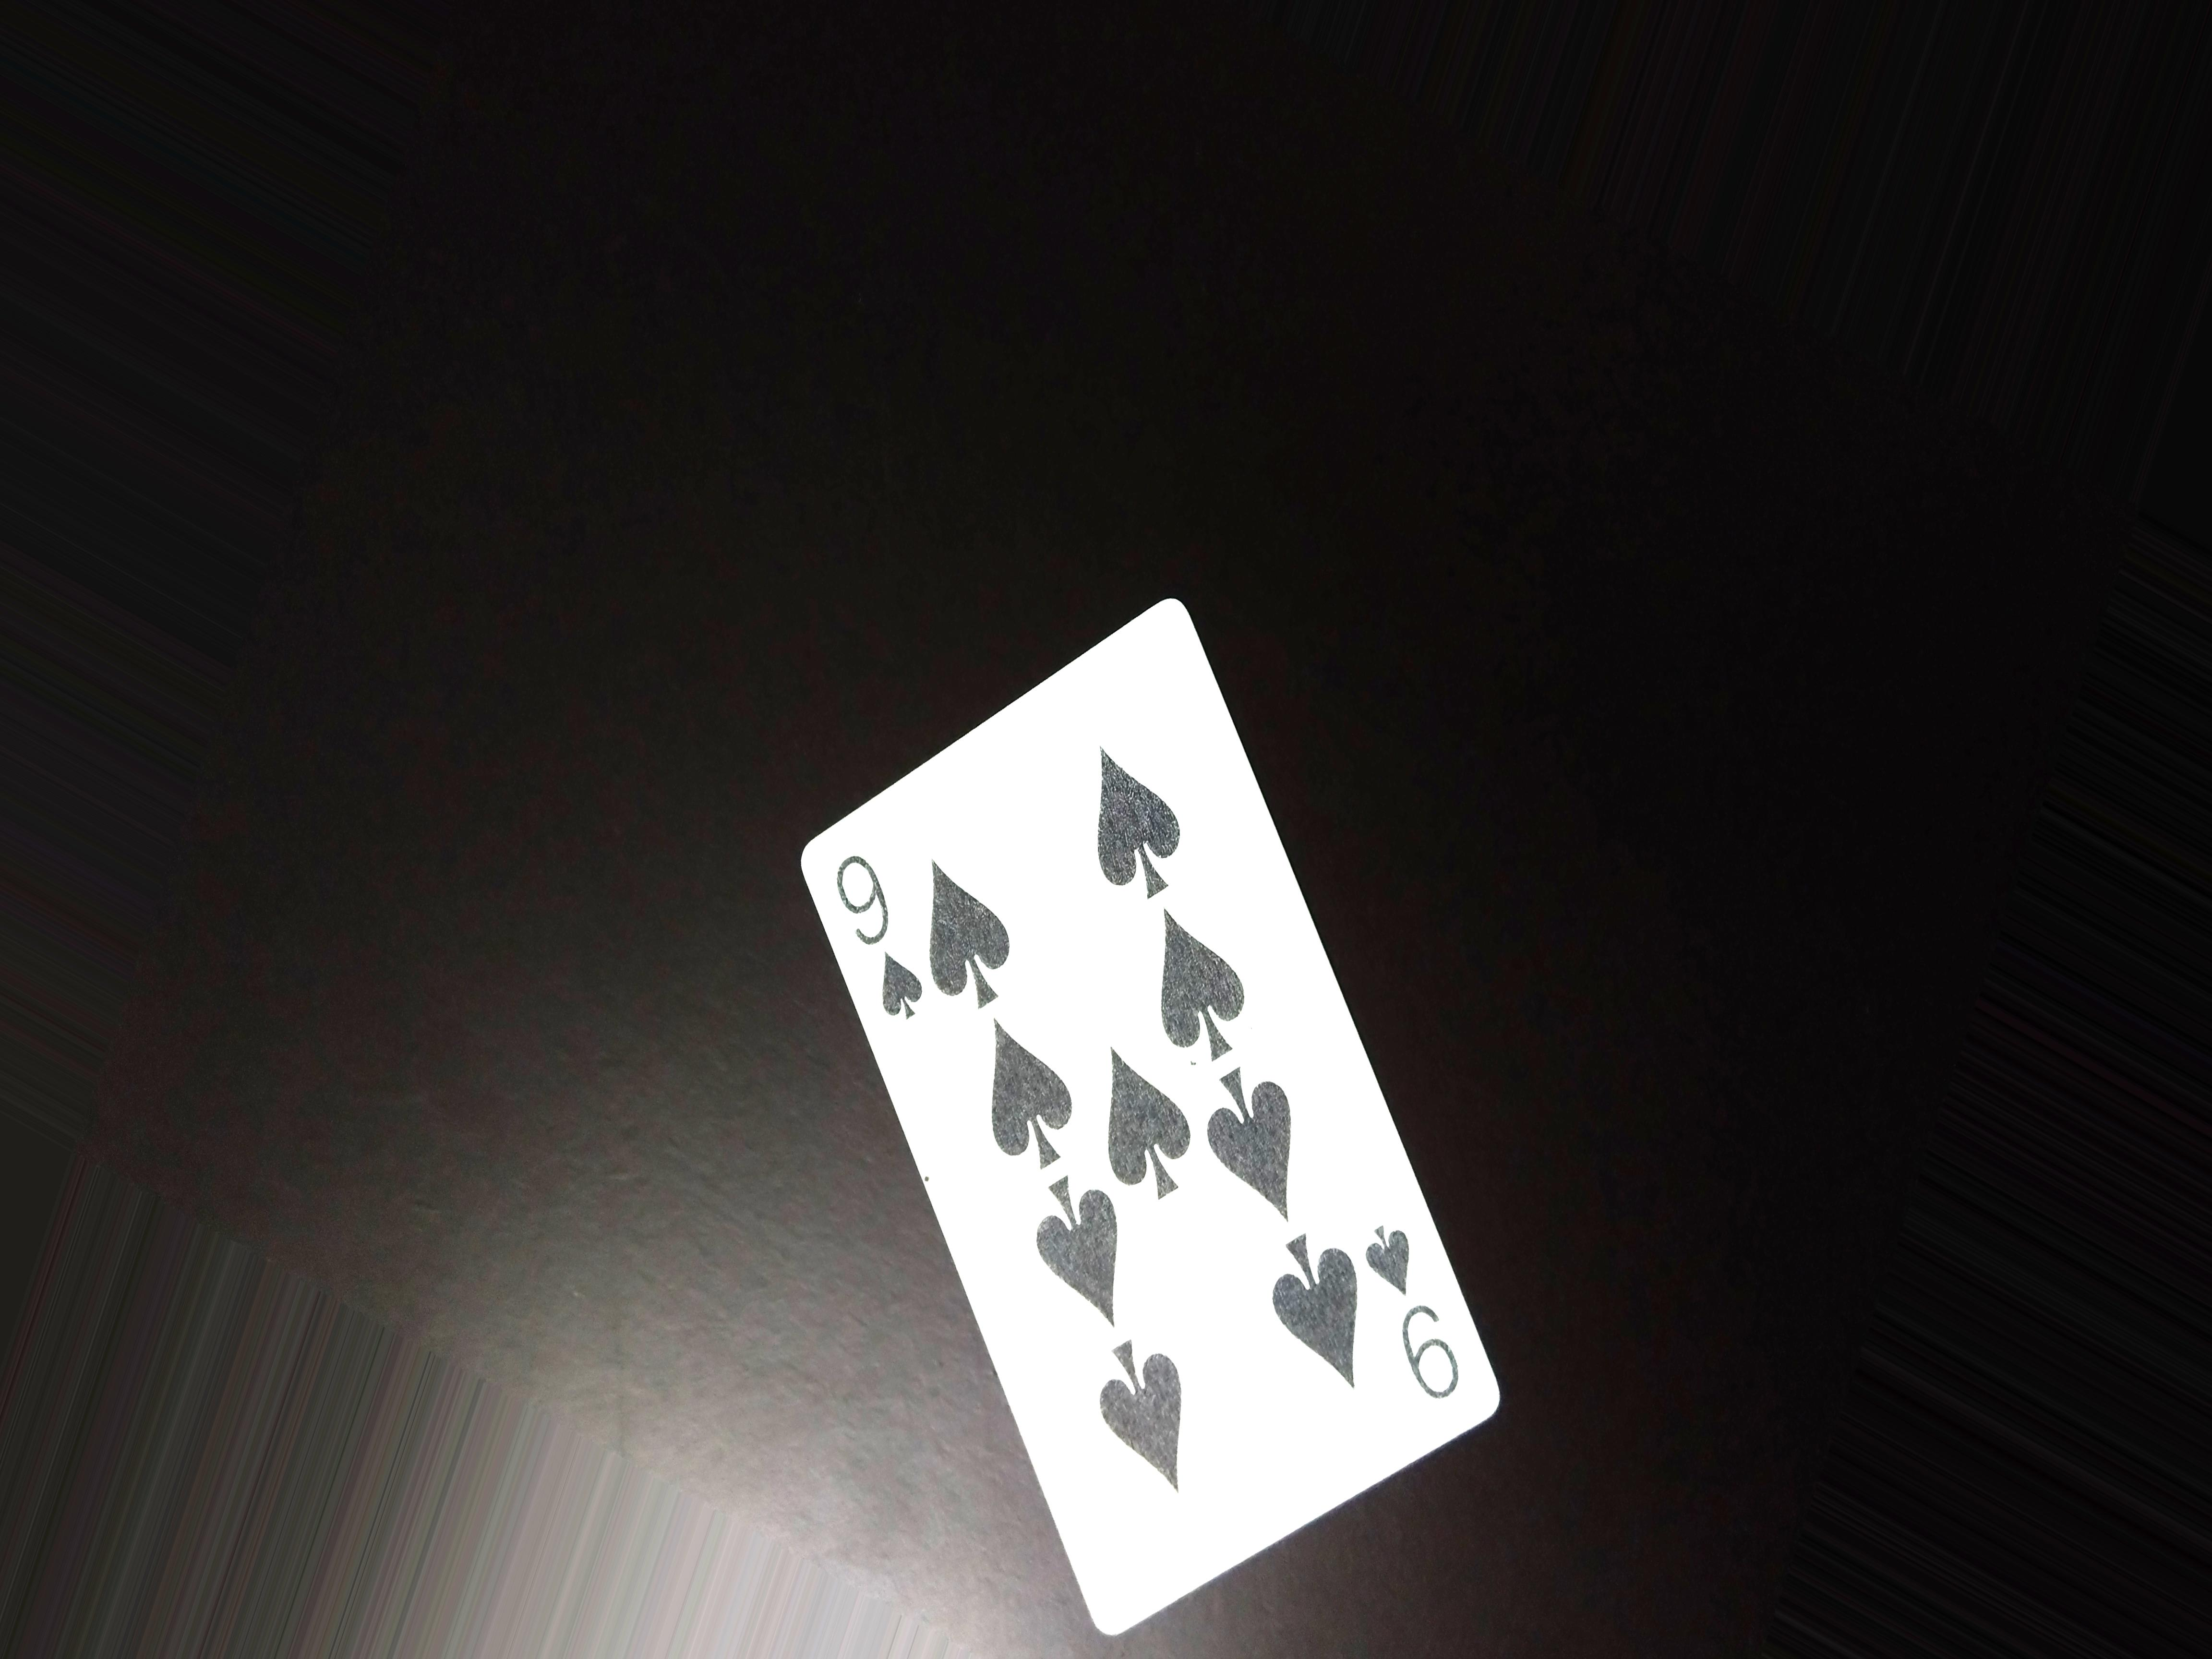9S: (813, 835, 935, 1014)
